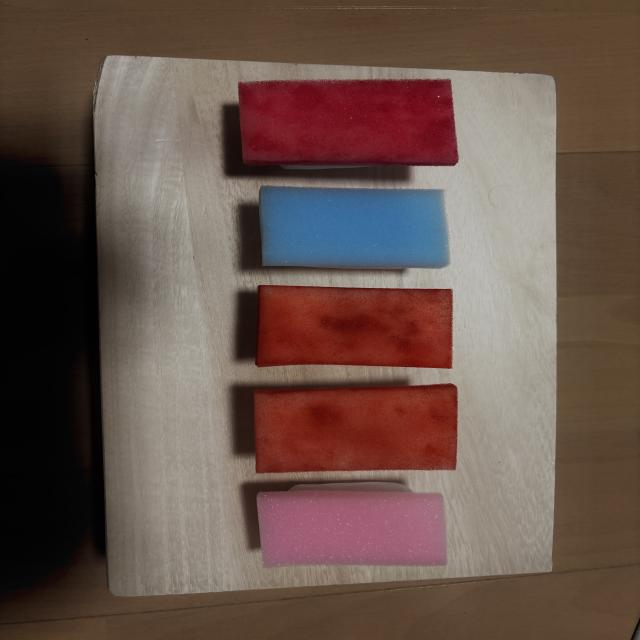ika: (260, 186, 449, 269)
maguro: (239, 79, 458, 169)
salmon: (254, 383, 457, 473), (255, 285, 452, 369)
tai: (257, 482, 446, 567)
